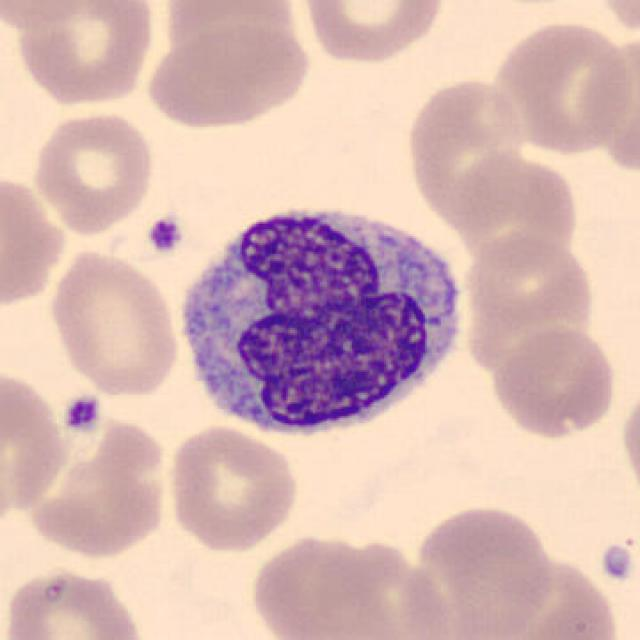Monocyte: (171, 190, 471, 448)
Platelets: (60, 390, 105, 437), (144, 212, 187, 258), (598, 540, 636, 586)
RBC: (20, 409, 174, 562), (45, 245, 183, 400), (404, 499, 556, 638), (487, 16, 635, 157), (140, 14, 314, 132), (402, 72, 528, 231), (164, 422, 302, 554), (460, 229, 598, 353), (299, 534, 457, 640), (28, 108, 158, 236), (8, 0, 158, 109), (487, 322, 621, 442), (448, 550, 626, 640), (454, 146, 582, 270), (247, 530, 389, 640), (0, 562, 151, 640), (0, 364, 69, 525), (0, 167, 69, 315), (297, 0, 448, 67), (0, 0, 96, 33), (617, 378, 640, 504), (590, 0, 640, 42)
